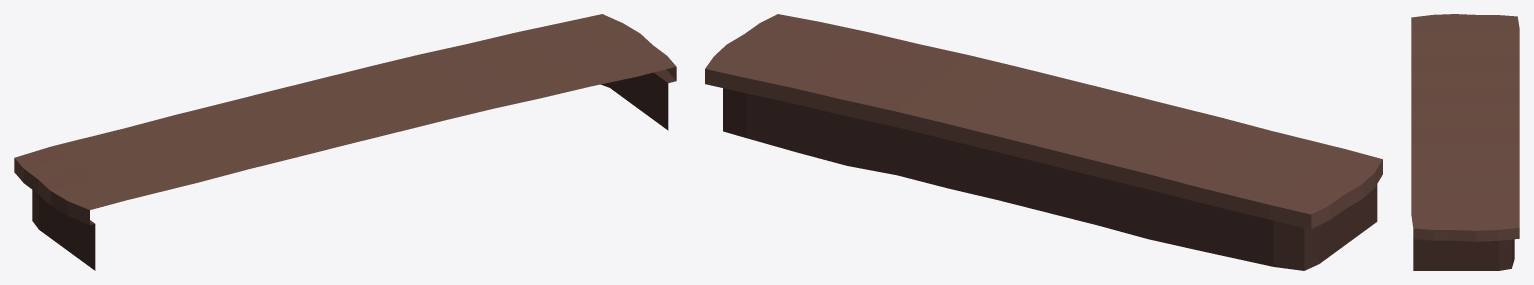
The model's file is Platform_1.fbx.
The picture shows the model from 3 angles, left to right: view 1: azimuth 30°, elevation 25°; view 2: azimuth 150°, elevation 25°; view 3: azimuth 270°, elevation 25°; orthographic projection. The views are drawn at different scales.
Parts seen in each view (by area): view 1: Platform_1; view 2: Platform_1; view 3: Platform_1.
Part boxes in pixels (x1,y1,x2,y2): Platform_1: (14,14,676,270); Platform_1: (705,14,1382,270); Platform_1: (1411,14,1519,270).
Size of the model in its own units: 989 by 107 by 210.
Materials: 1 (1 with a texture image).
